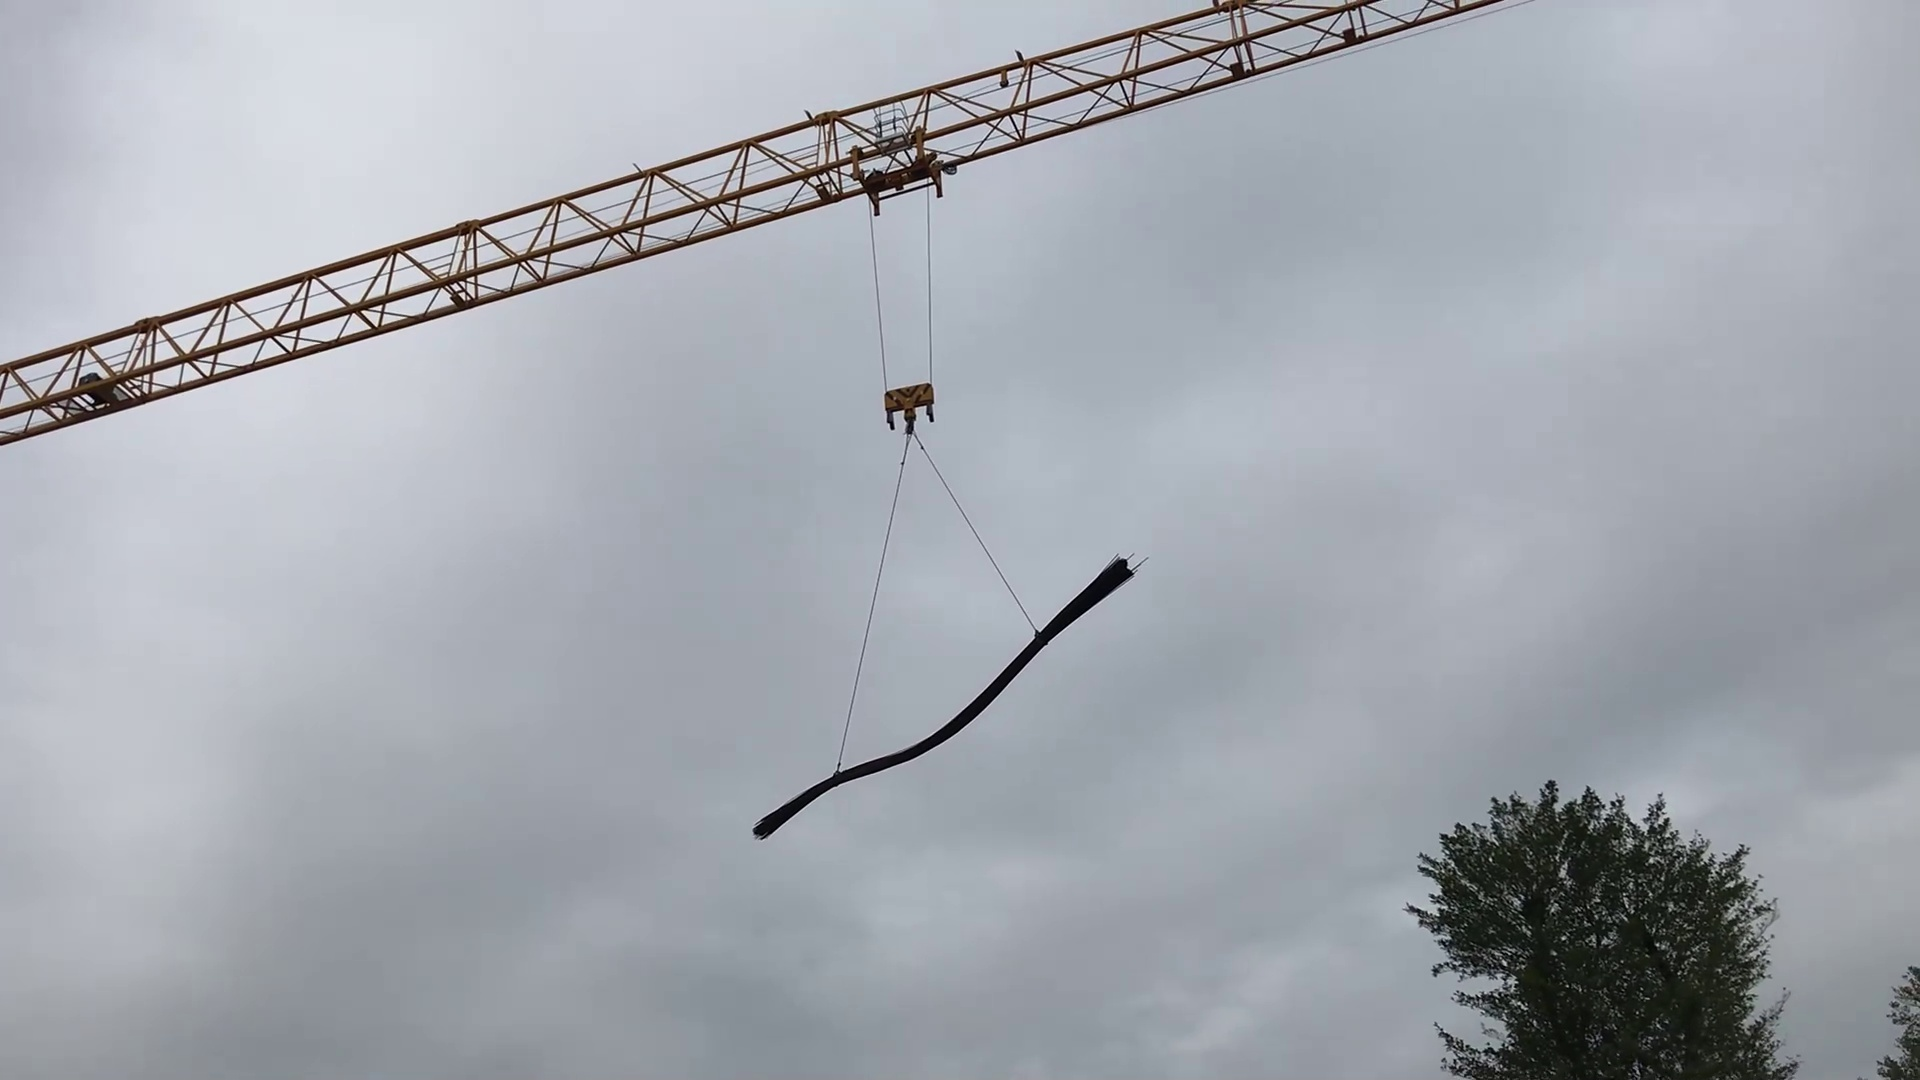hook: (878, 378, 943, 440)
rebar: (750, 545, 1145, 833)
